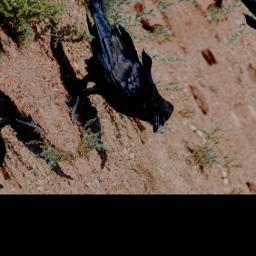Crow: (5, 0, 191, 157)
